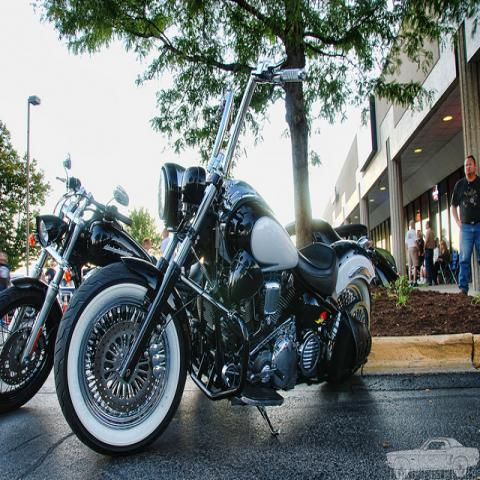motorcycle: (56, 56, 380, 461), (0, 158, 152, 414)
